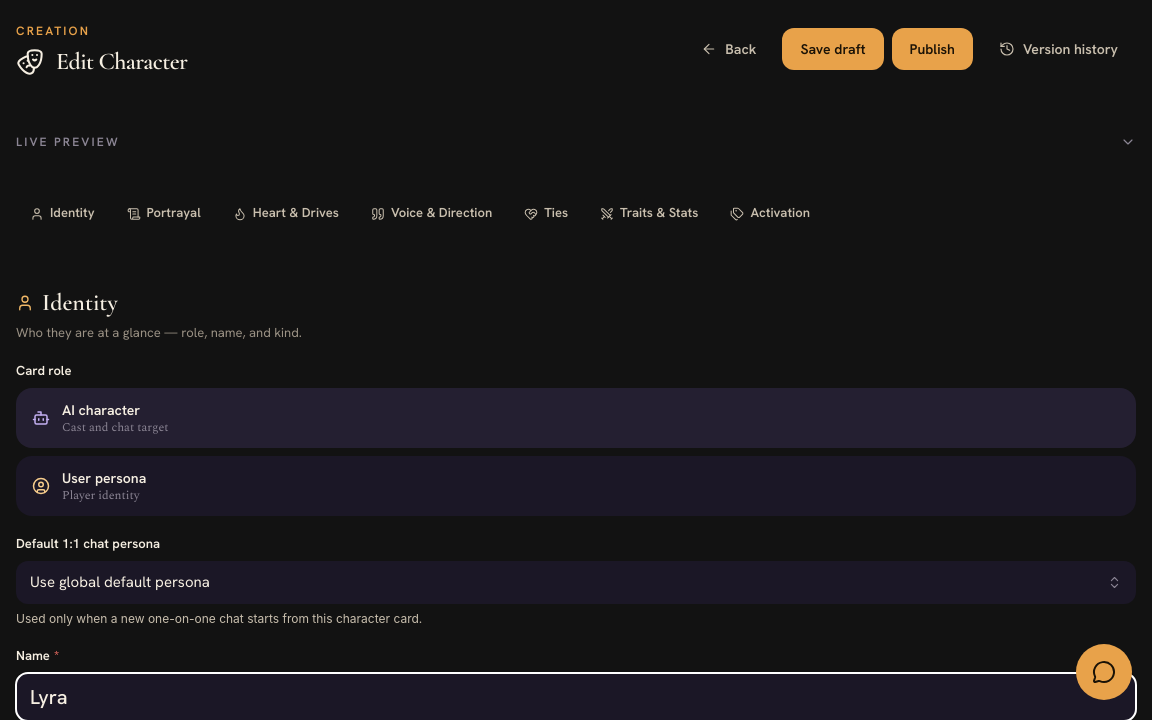
CharacterCreator voice save refusals (I-36) › a generic edit save failure keeps the draftSave toast
Step 1. Click the button "Save draft" → (833,49), box [782,28,884,70]
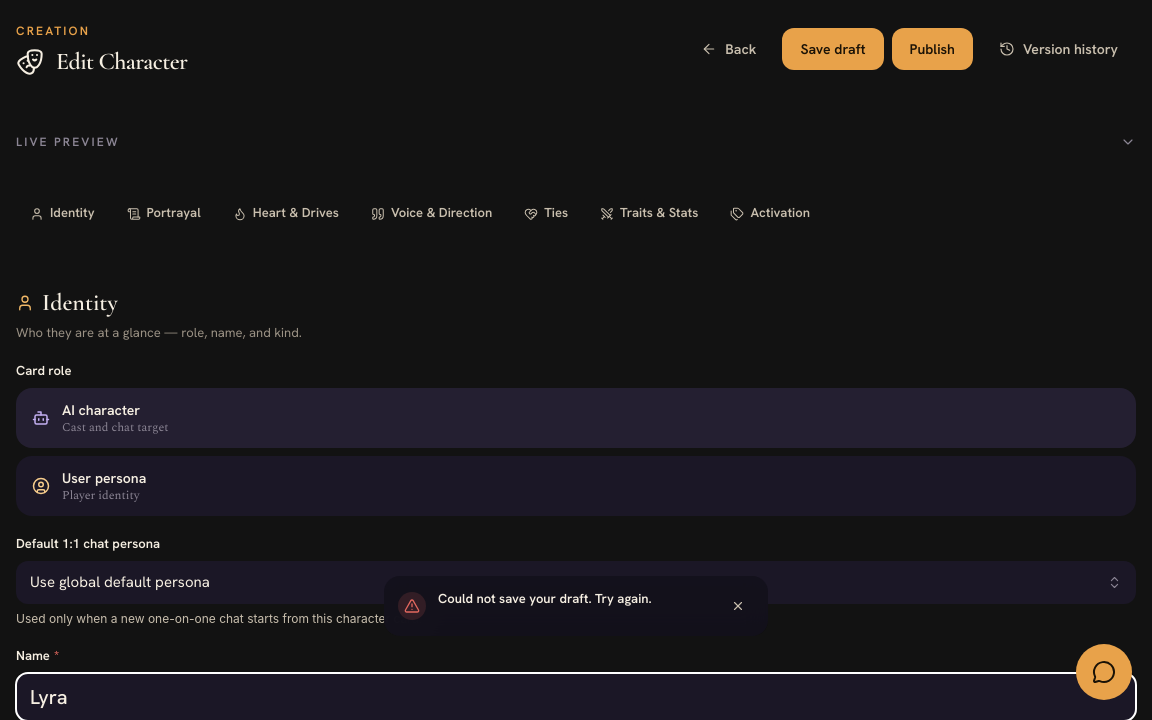
Check: the text "Could not save your draft. Try again." is shown, box [438,590,652,607]
